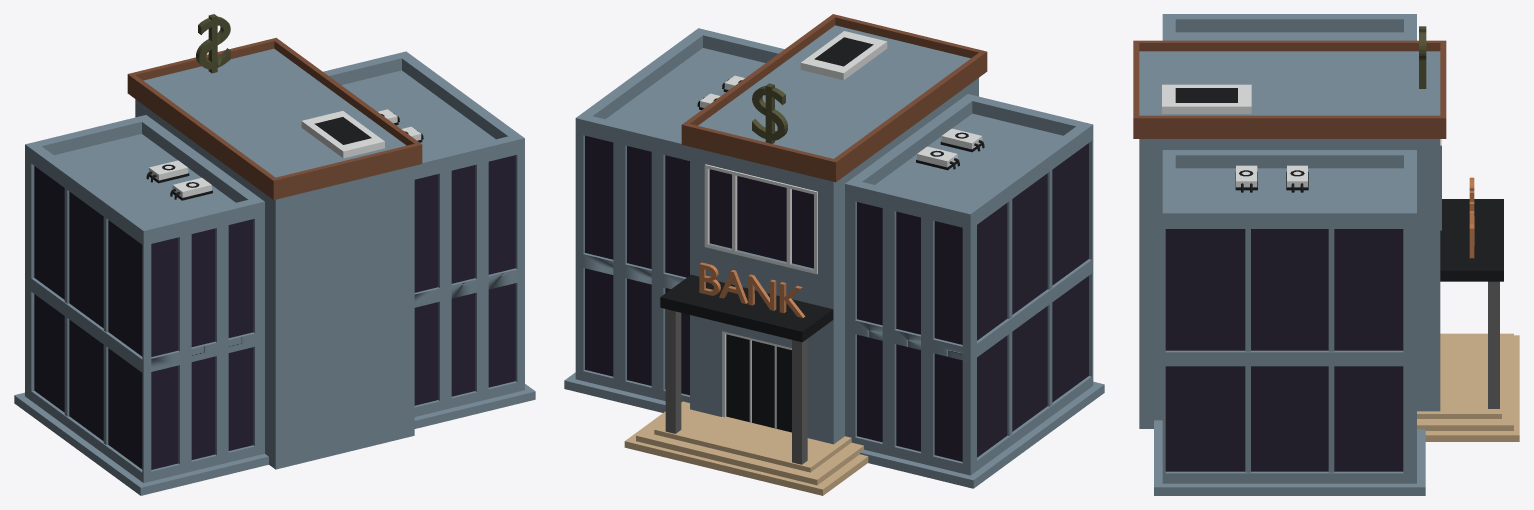
The model's file is bank.fbx.
3 renders of one model, left to right at view 1: azimuth 30°, elevation 25°; view 2: azimuth 150°, elevation 25°; view 3: azimuth 270°, elevation 25°, orthographic. The views are drawn at different scales.
Parts seen in each view (by area): view 1: Bank_1; view 2: Bank_1; view 3: Bank_1.
Part boxes in pixels (x1,y1,x2,y2): Bank_1: (14,14,535,495); Bank_1: (564,14,1104,495); Bank_1: (1133,14,1519,495).
Bounding box in the file's own units: 1893 × 1558 × 1496.
